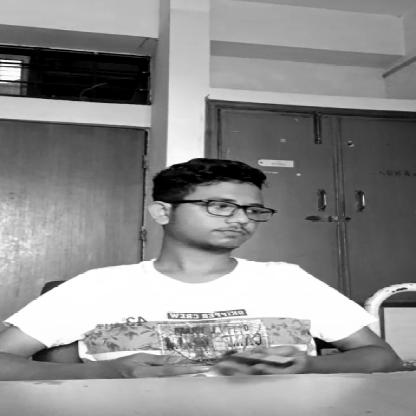Distracted: (149, 150, 287, 257)
